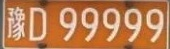D: (29, 8, 46, 41)
